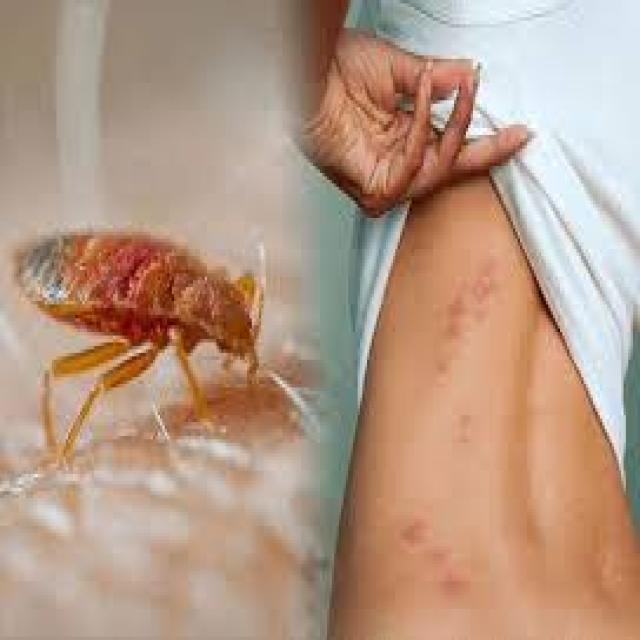kan emici bocekler: (434, 281, 466, 387), (426, 551, 464, 605), (473, 262, 500, 336), (400, 518, 434, 556), (453, 412, 470, 442)
